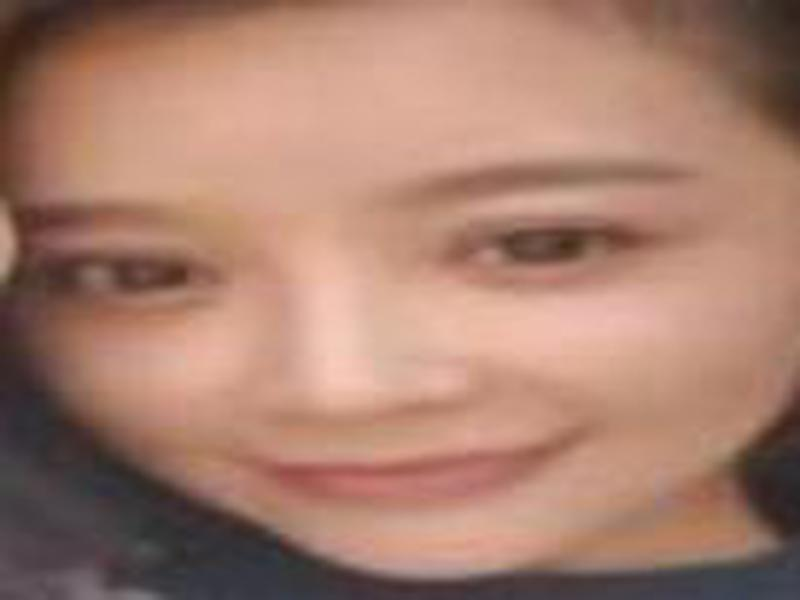without_mask: (6, 23, 800, 585)
